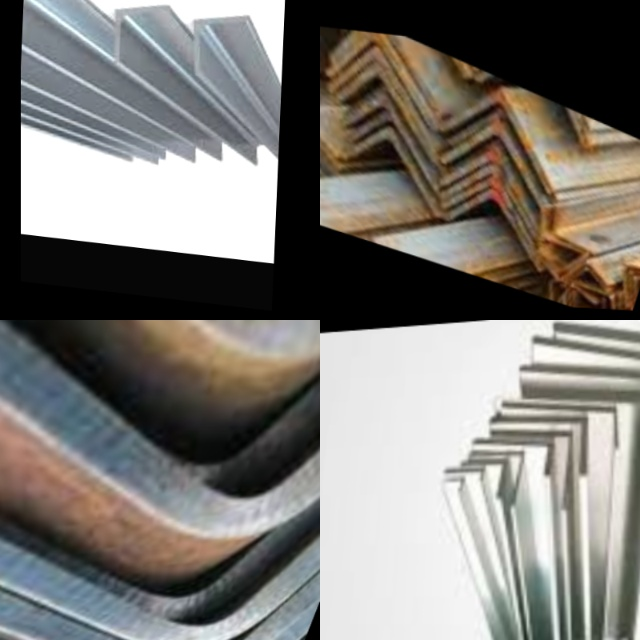Angle: (0, 320, 320, 547), (0, 451, 320, 640), (0, 320, 320, 495), (0, 482, 320, 640), (0, 527, 320, 640), (0, 574, 320, 640), (434, 73, 565, 190), (320, 32, 444, 144), (443, 93, 566, 201), (327, 55, 446, 163), (557, 320, 640, 463), (320, 27, 443, 123), (526, 385, 640, 481), (439, 109, 551, 204), (333, 86, 441, 181), (536, 328, 640, 423), (329, 28, 447, 110), (522, 360, 640, 442), (345, 123, 449, 216), (440, 136, 546, 225), (438, 151, 545, 239), (445, 181, 549, 268), (476, 69, 593, 142), (442, 168, 541, 247), (504, 398, 617, 452), (494, 429, 571, 505), (493, 415, 584, 473), (195, 12, 245, 76), (117, 0, 166, 64), (472, 449, 523, 504), (475, 437, 550, 474), (0, 320, 320, 328), (548, 208, 600, 254), (537, 210, 589, 253), (22, 0, 68, 45), (320, 103, 344, 170), (612, 260, 640, 310), (320, 122, 342, 172), (320, 143, 339, 192)
